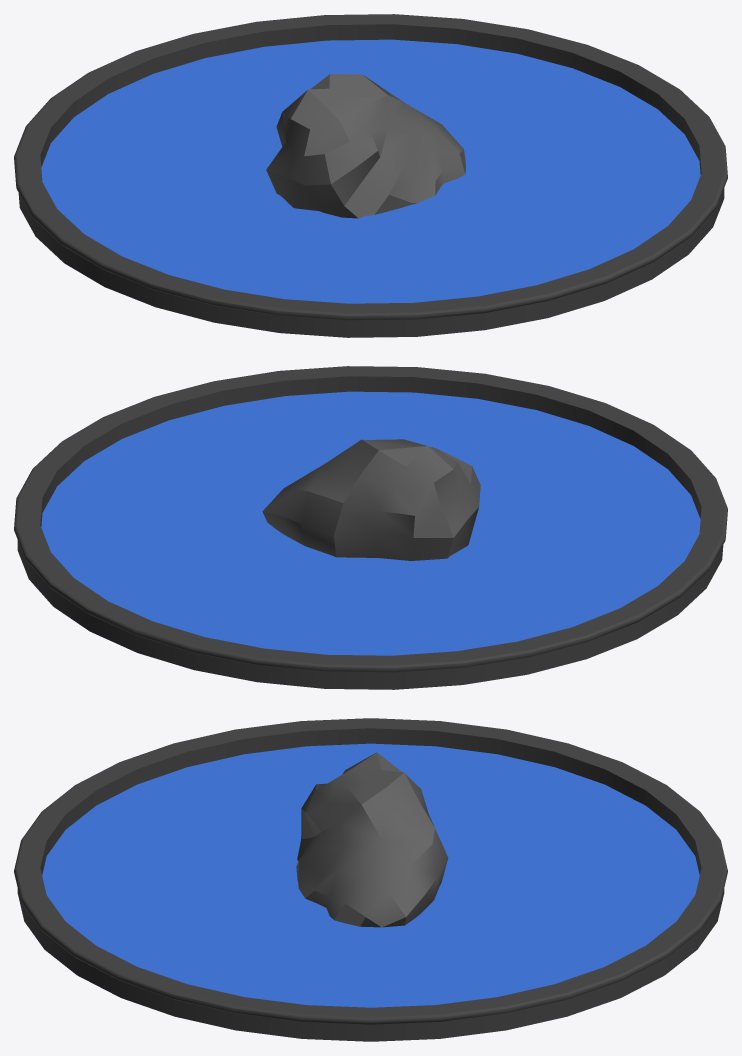
Rendered from fountain_01.fbx.
The picture shows the model from 3 angles, top to bottom: view 1: azimuth 30°, elevation 25°; view 2: azimuth 150°, elevation 25°; view 3: azimuth 270°, elevation 25°; orthographic projection.
Parts seen in each view (by area): view 1: fountained_01; view 2: fountained_01; view 3: fountained_01.
Part boxes in pixels (<box>): fountained_01: <box>14,14,727,337</box>; fountained_01: <box>14,366,727,689</box>; fountained_01: <box>14,718,727,1041</box>.
Bounding box in the file's own units: 1299 × 301 × 1299.
